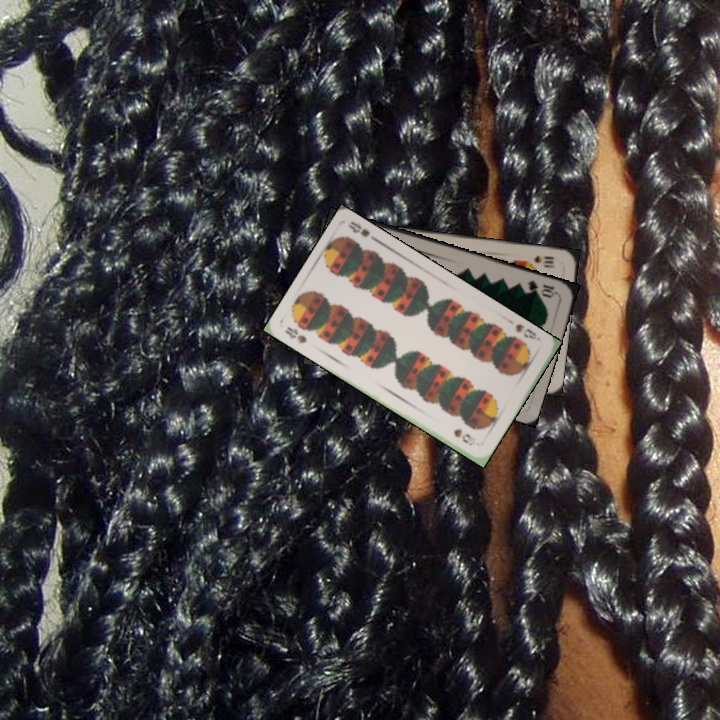G10: (523, 275, 560, 300)
S10: (530, 251, 558, 269)
S8: (511, 320, 543, 343), (281, 322, 309, 347)
